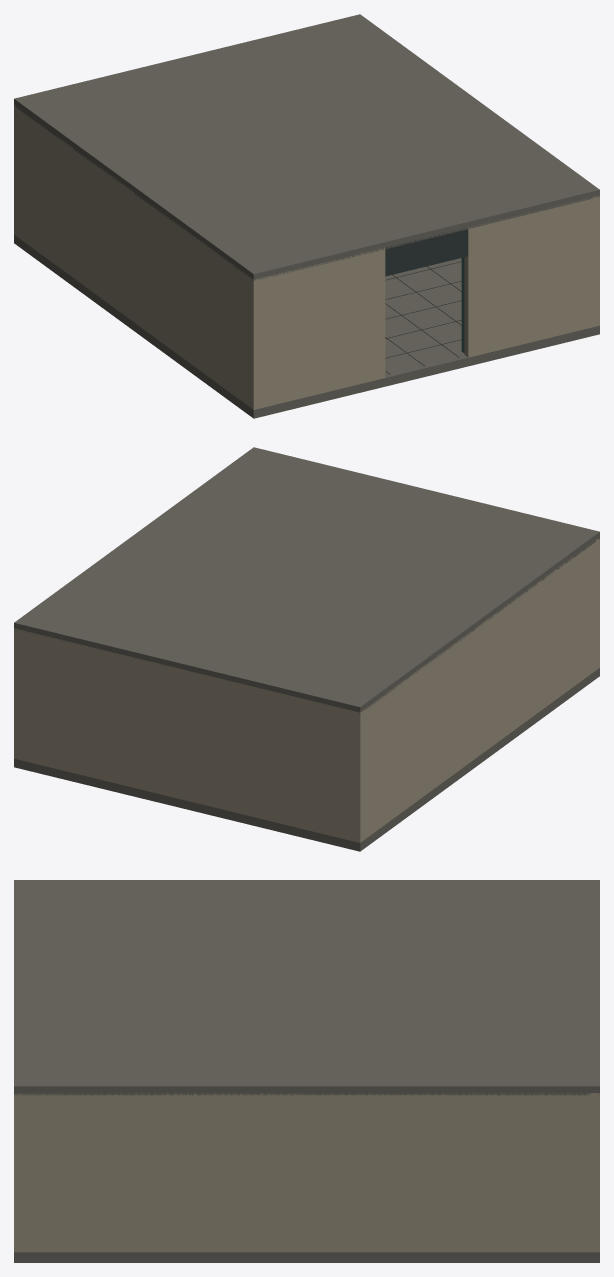
The model's file is shelter_room.glb.
The picture shows the model from 3 angles, top to bottom: view 1: azimuth 30°, elevation 25°; view 2: azimuth 150°, elevation 25°; view 3: azimuth 270°, elevation 25°; orthographic projection. The views are drawn at different scales.
Parts seen in each view (by area): view 1: WALL_ceiling, WALL_side, WALL_front.002, WALL_front.003, FLOOR_room, WALL_door_lintel, WALL_side.001; view 2: WALL_ceiling, WALL_back.002, WALL_side, FLOOR_room, WALL_side.001; view 3: WALL_ceiling, WALL_side.001, FLOOR_room, WALL_back.002, WALL_front.003.
Boxes of the visible parts, <box> form: WALL_ceiling: <box>14,14,599,280</box>; WALL_side: <box>14,107,260,409</box>; WALL_front.002: <box>250,247,385,409</box>; WALL_front.003: <box>464,195,599,357</box>; FLOOR_room: <box>14,235,599,418</box>; WALL_door_lintel: <box>385,229,468,276</box>; WALL_side.001: <box>593,196,599,326</box>; WALL_ceiling: <box>14,447,599,712</box>; WALL_back.002: <box>14,628,363,842</box>; WALL_side: <box>353,542,599,842</box>; FLOOR_room: <box>14,668,599,851</box>; WALL_side.001: <box>14,629,20,759</box>; WALL_ceiling: <box>14,880,599,1095</box>; WALL_side.001: <box>14,1093,599,1252</box>; FLOOR_room: <box>14,1252,599,1262</box>; WALL_back.002: <box>590,1093,599,1252</box>; WALL_front.003: <box>14,1093,23,1252</box>.
Bounding box in the file's own units: 10 × 3.99 × 12.
